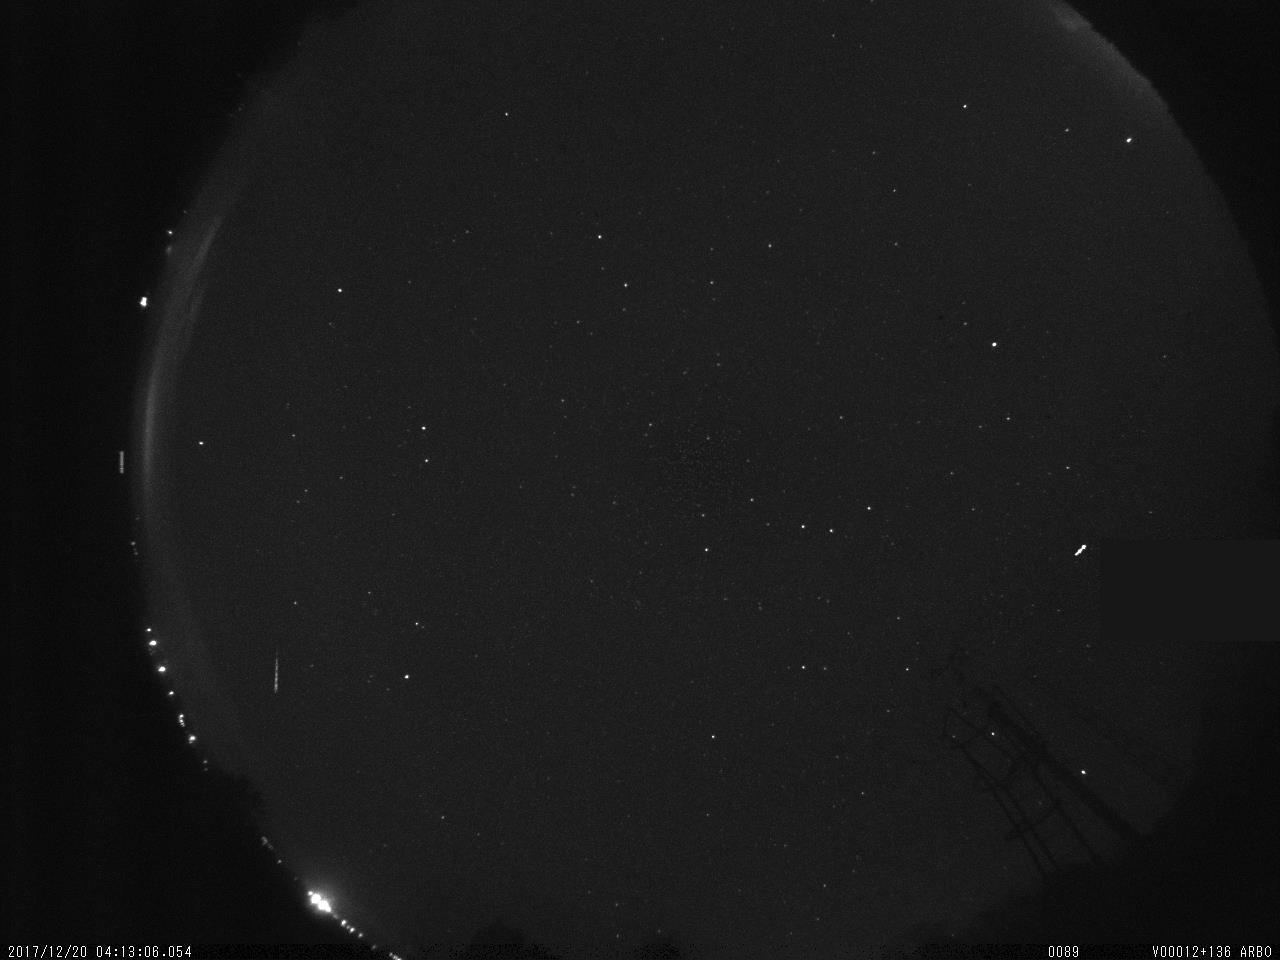Meteor: (269, 645, 284, 698)
